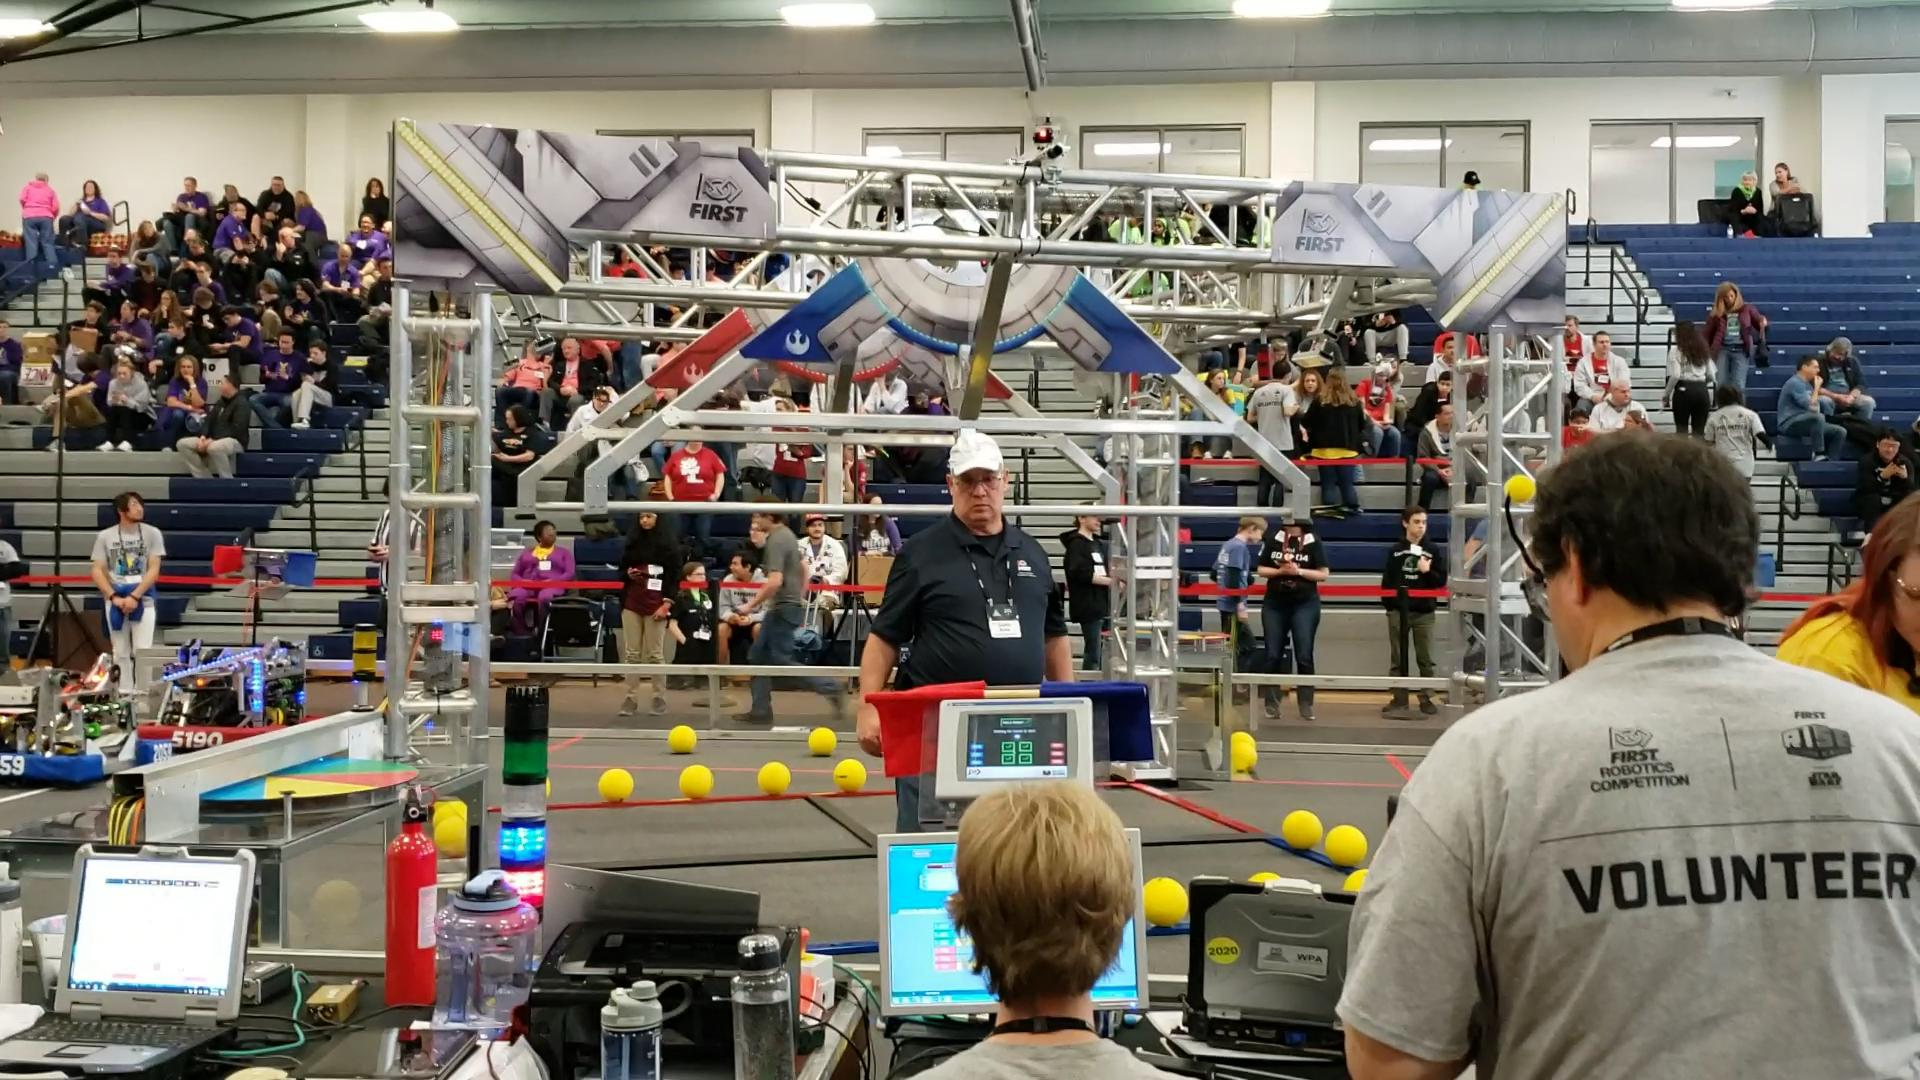robot: (0, 651, 173, 790), (136, 636, 324, 753)
